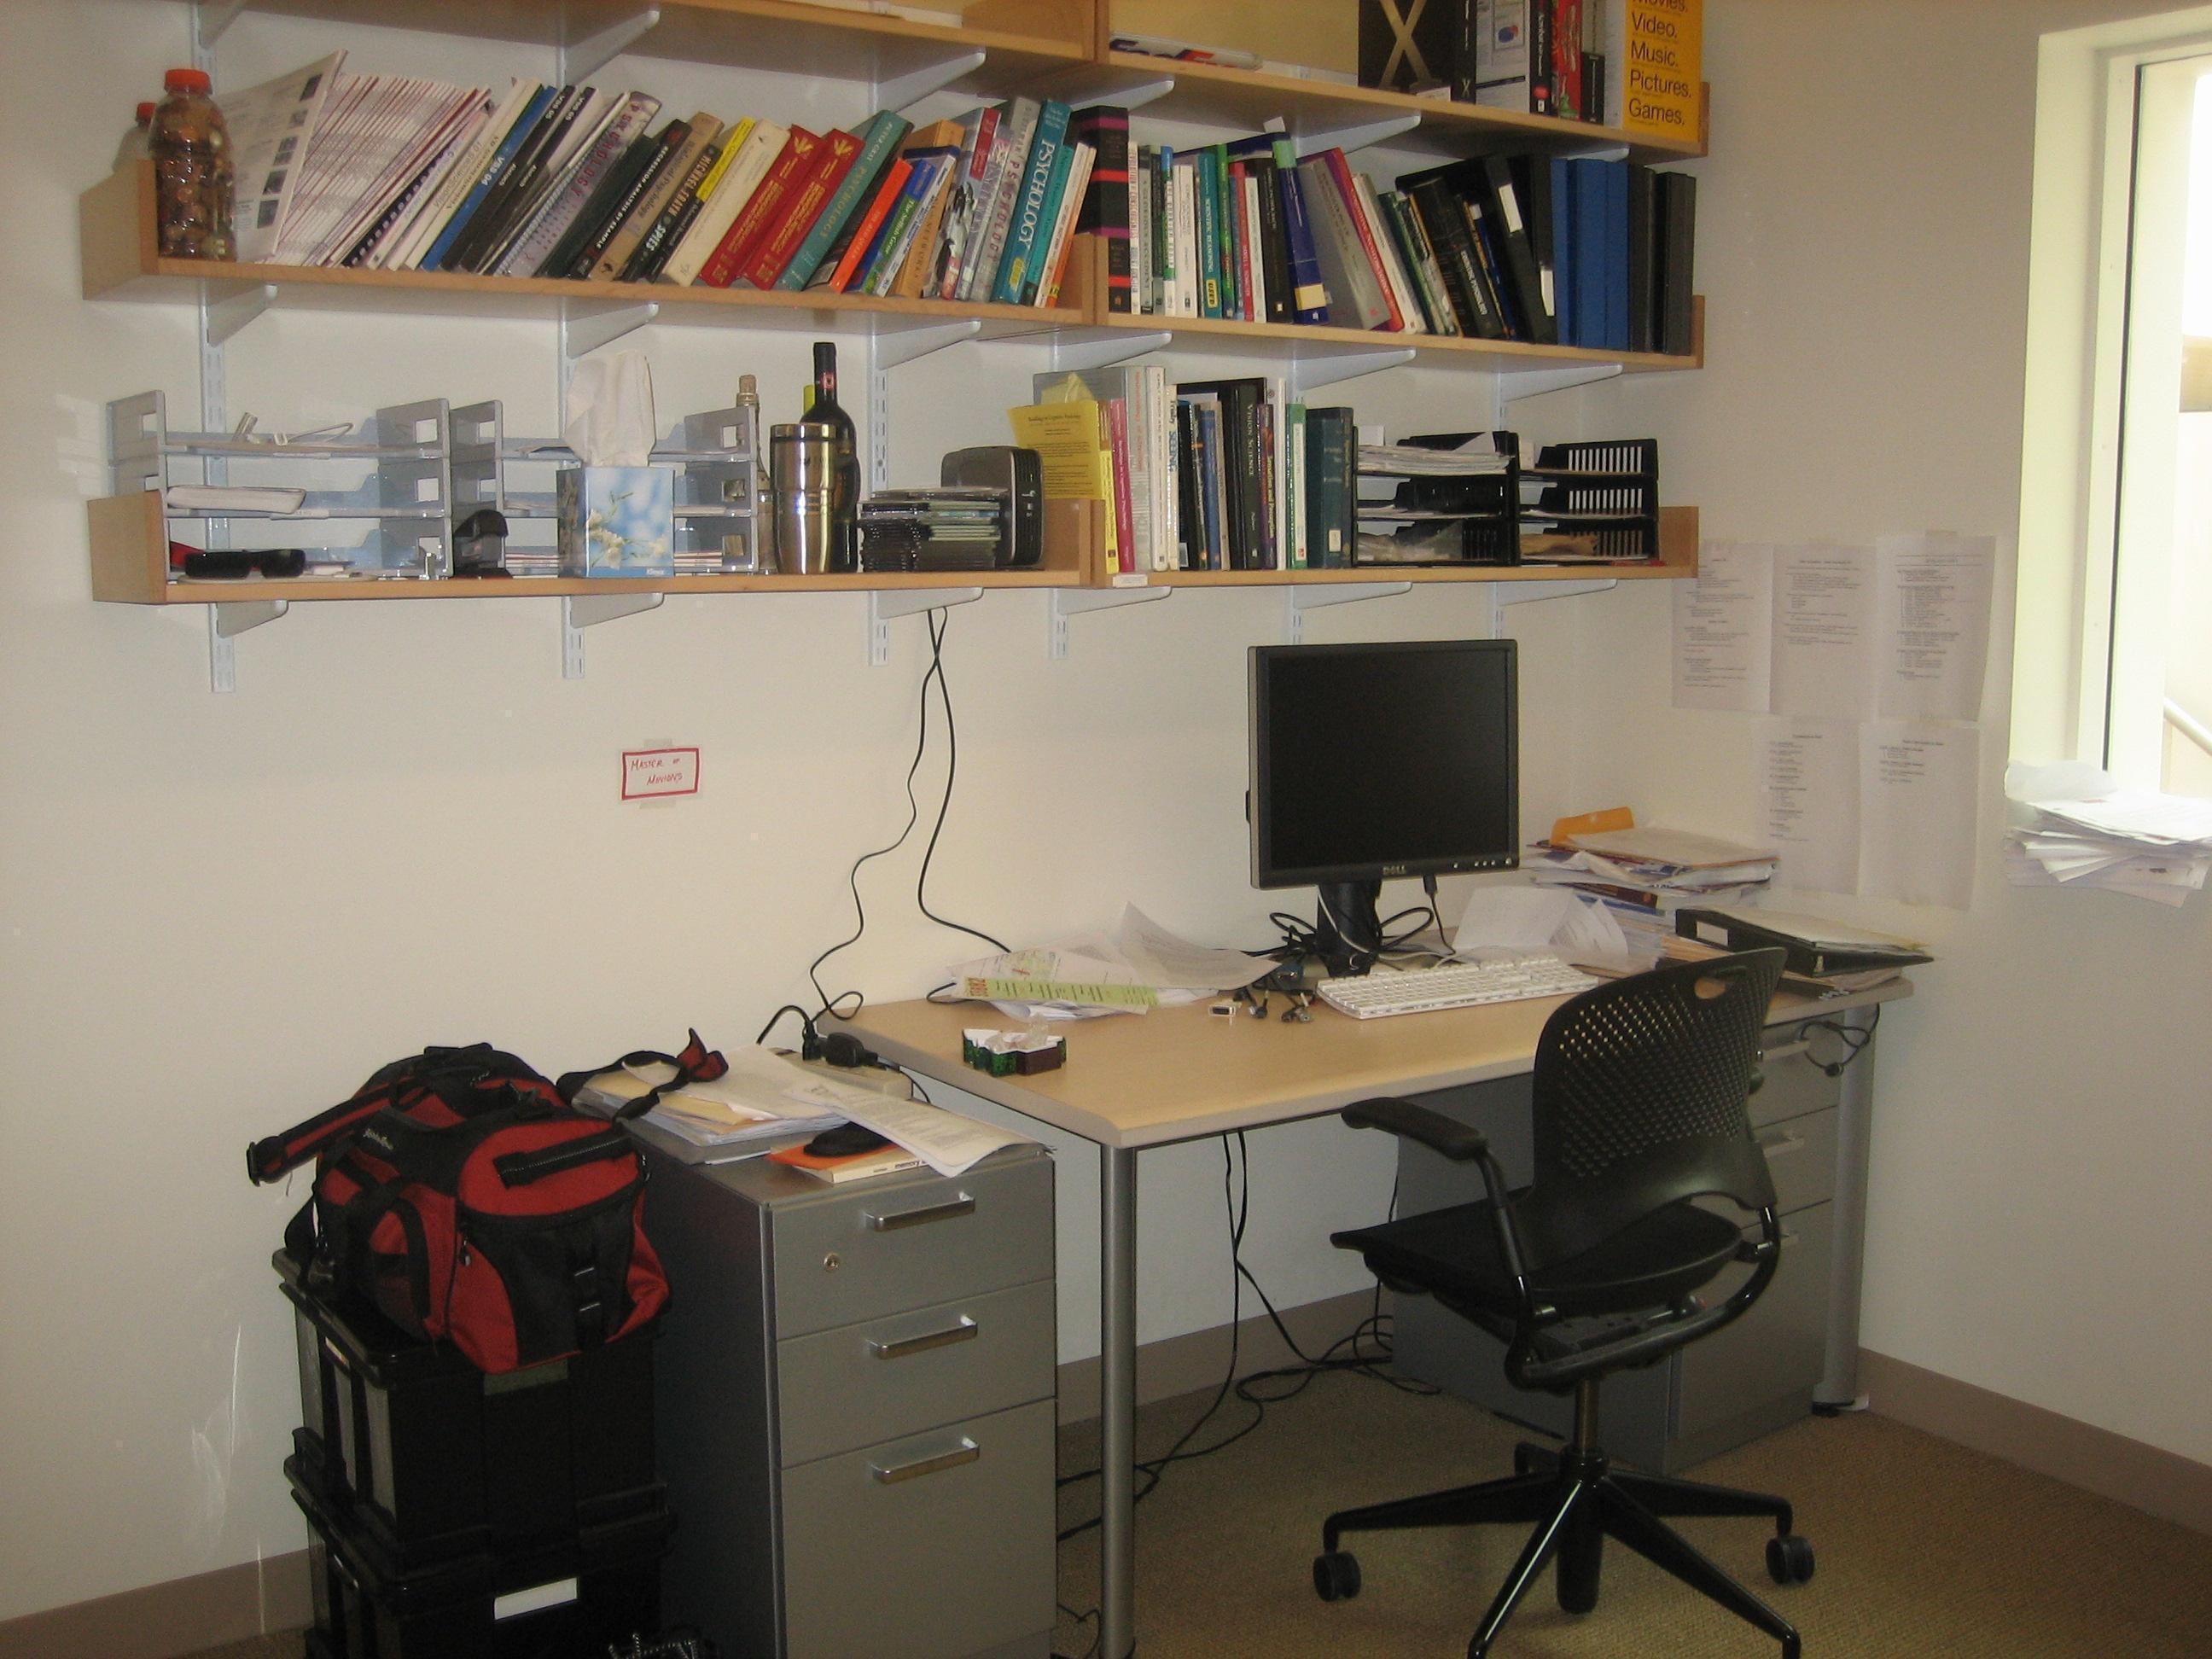Armario: (651, 1066, 1064, 1656)
